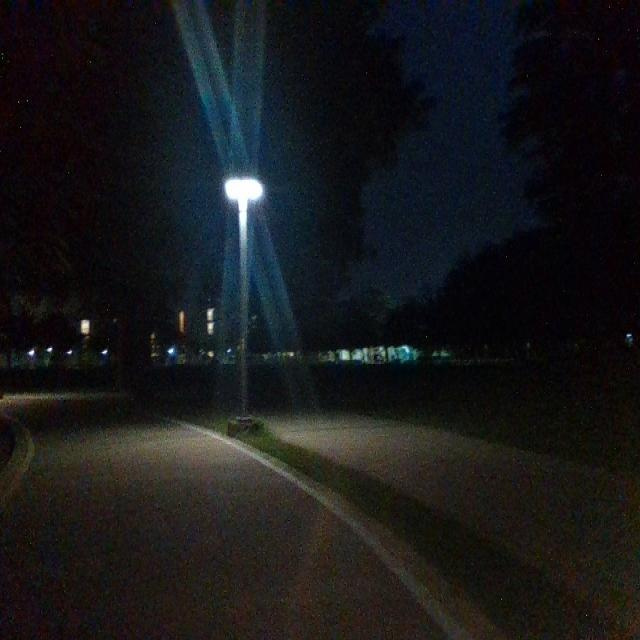lane: (0, 398, 452, 640)
